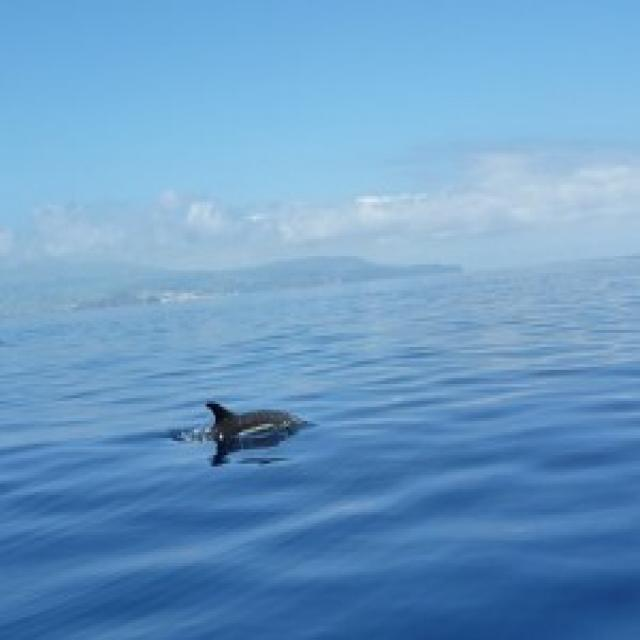Dolphin: (185, 395, 316, 455)
